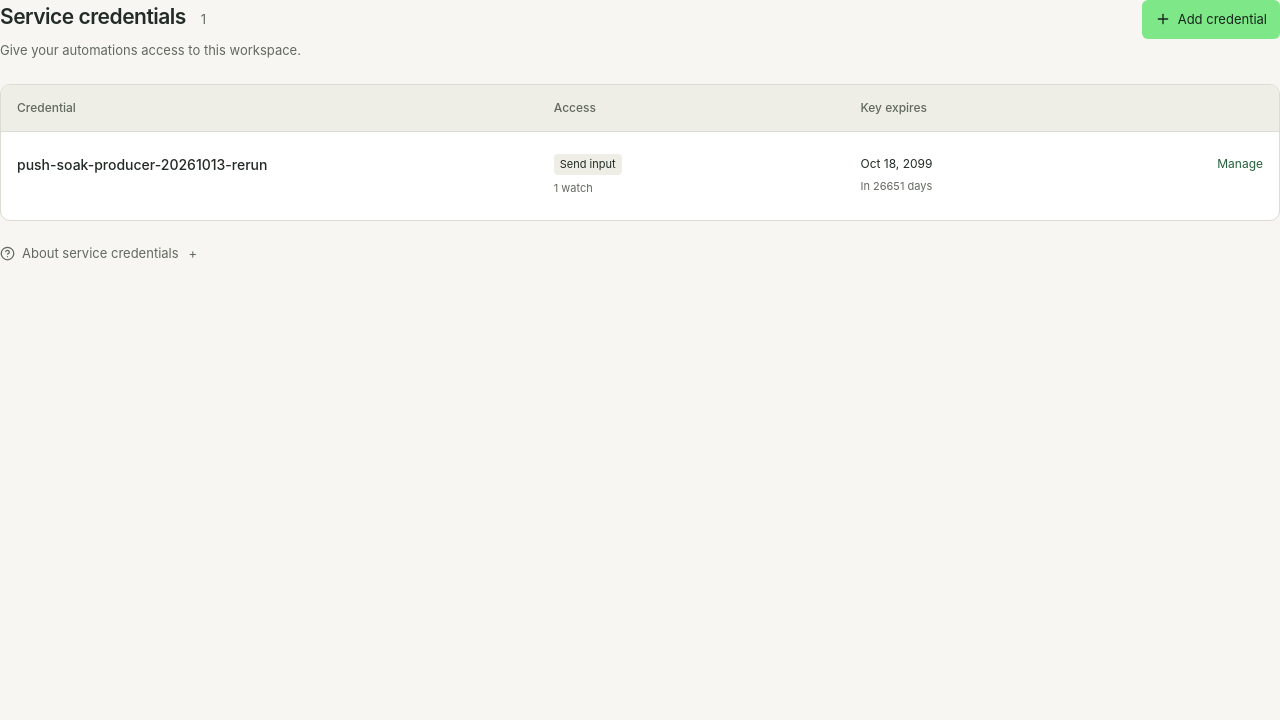
Scenario: management fetches keys on demand, preserves watch permissions, and rotates with overlap
Expected: the button "push-soak-producer-20261013-rerun" is shown, [17,154,267,176]
Click the button "Manage". click: (1240,163)
box: [1217,154,1263,173]
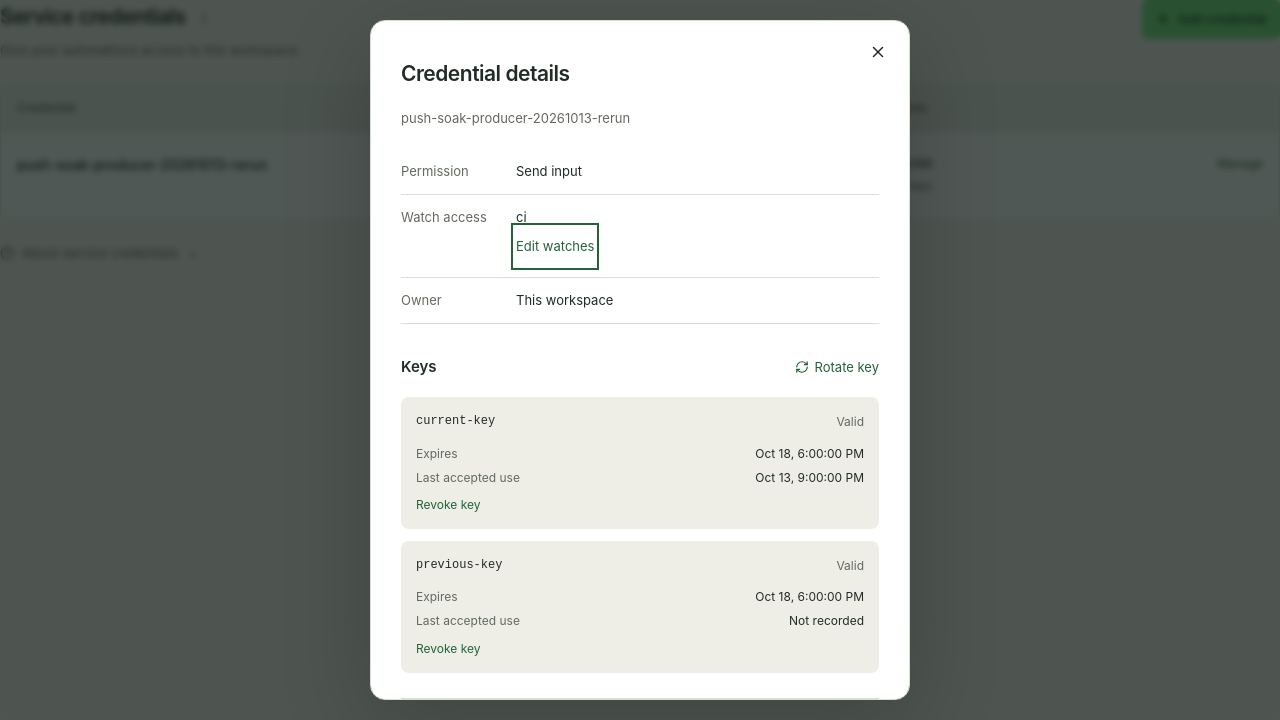
Now the text "current-key" is shown, box [416,412,495,432]
Now the text "Last accepted use" is shown 2 times, box [416,468,520,487]; [416,612,520,631]
Click the button "Edit watches". click: (555,246)
box: [516,228,594,265]
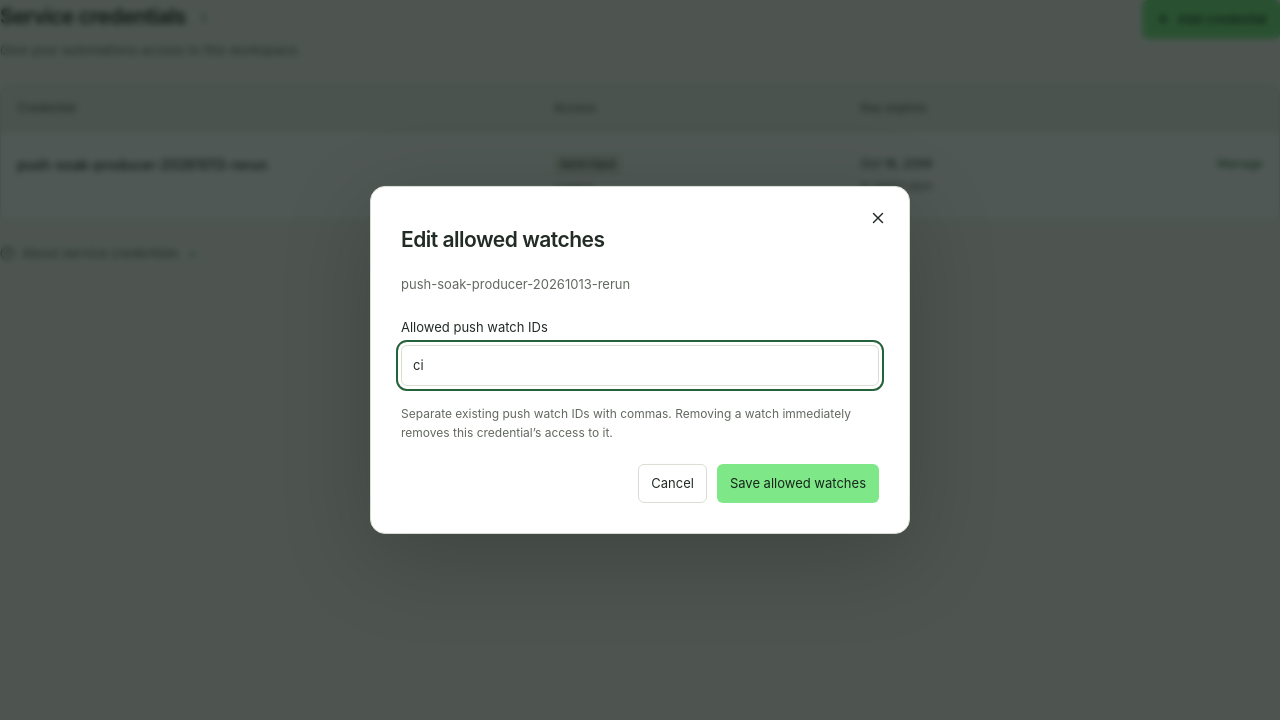
Replace the text in the field labelled "Allowed push watch IDs" with "ci, deploy, ci". click: (640,366)
box: [401,345,879,386]
Click the button "Save allowed watches". click: (798,484)
box: [717,464,879,503]
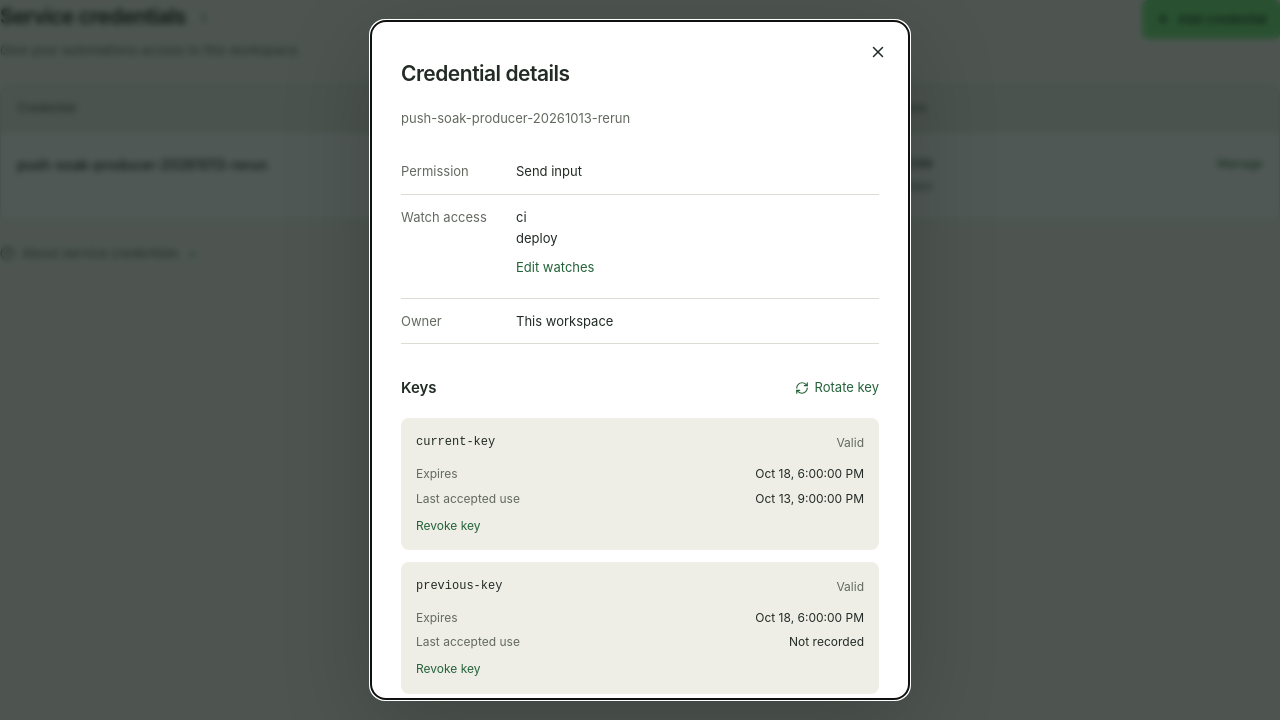
Now the dialog "Credential details" is shown, box [370,20,910,700]
Click the button "Rotate key". click: (837,388)
box: [795,369,879,406]
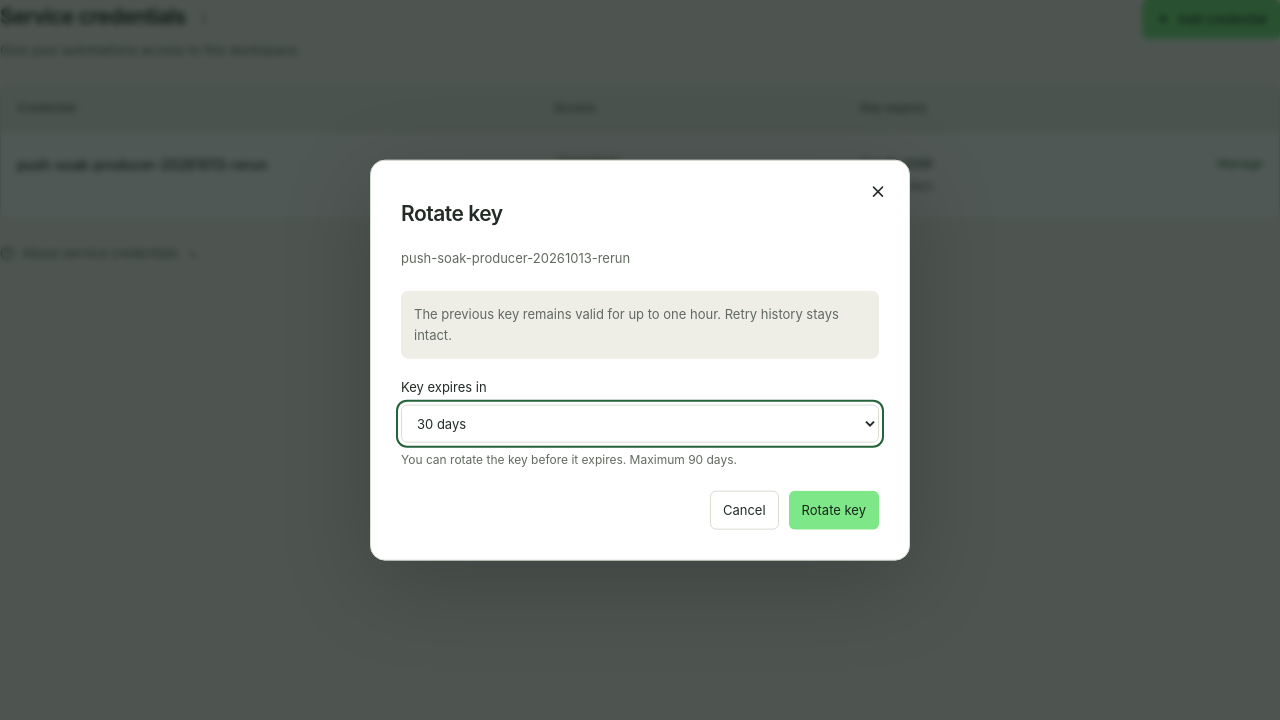
Select "7 days" in the dropdown labelled "Key expires in". click: (640,423)
box: [401,404,879,442]
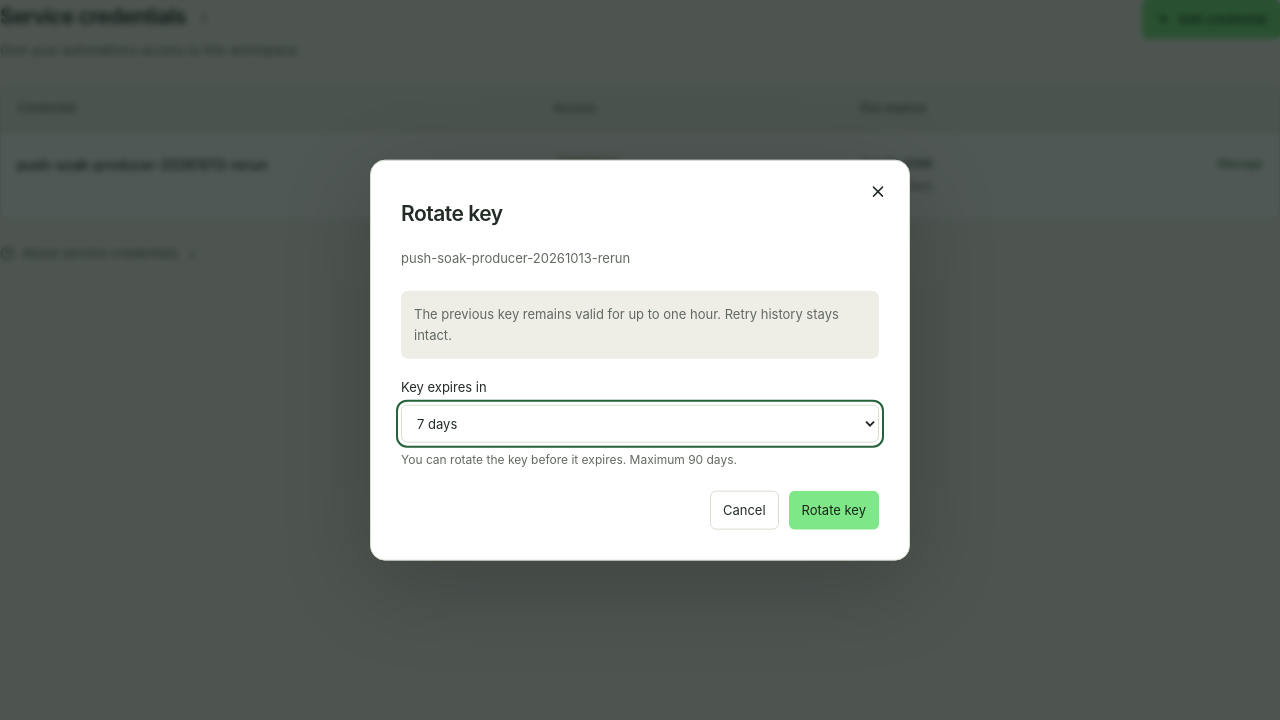
Click the button "Rotate key". click: (834,510)
box: [789,491,879,529]
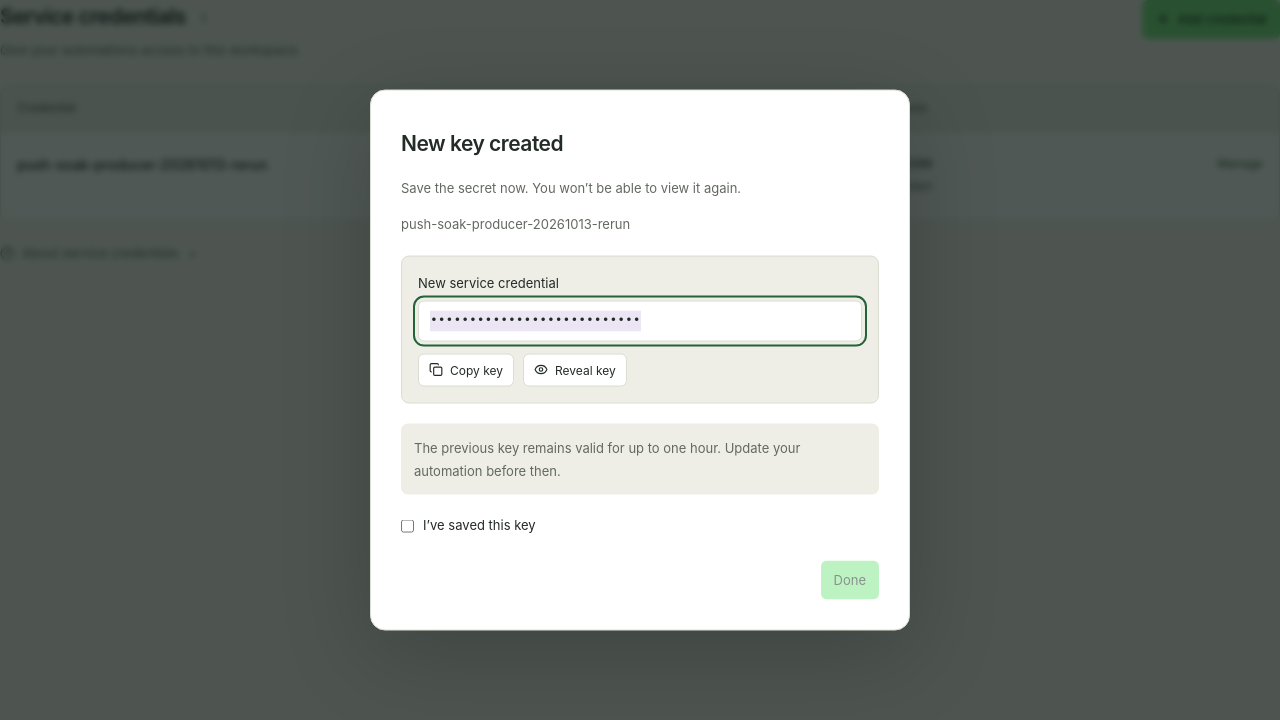
Now the dialog "New key created" is shown, box [370,90,910,630]
Now the password field labelled "New service credential" holds "ding_service_rotated_secret", box [418,300,862,341]
